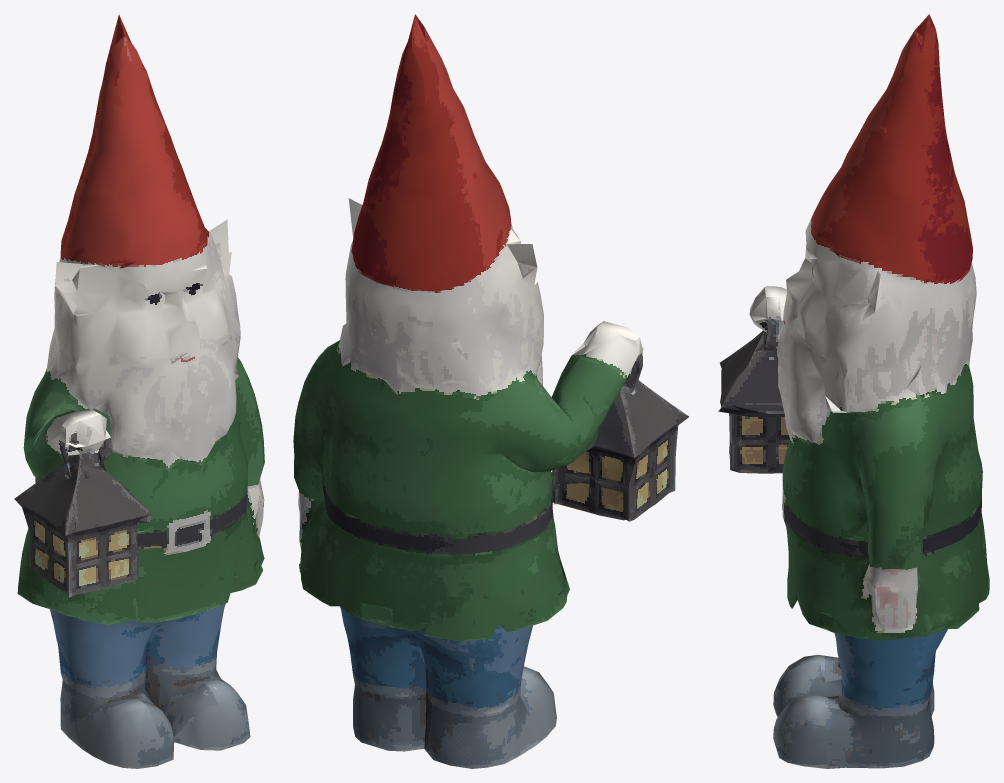
Rendered from gnome.glb.
3 renders of one model, left to right at view 1: azimuth 30°, elevation 25°; view 2: azimuth 150°, elevation 25°; view 3: azimuth 270°, elevation 25°, orthographic. The views are drawn at different scales.
Visible parts, largest first — view 1: mesh_q; view 2: mesh_q; view 3: mesh_q.
Boxes of the visible parts, x1=… form: mesh_q: x1=14, y1=14, x2=264, y2=768; mesh_q: x1=293, y1=14, x2=689, y2=768; mesh_q: x1=718, y1=14, x2=989, y2=768.
Size of the model in its own units: 0.4766 by 1.12 by 0.3858.
Materials: 1 (1 with a texture image).
